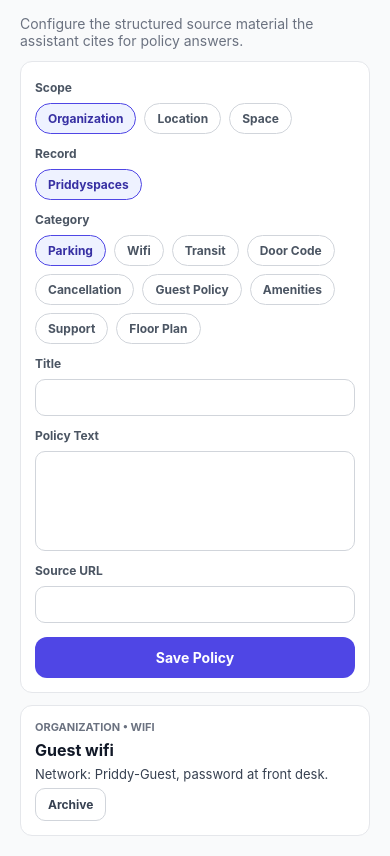
Scenario: OwnerAssistantPoliciesScreen › archives an active policy
(page scrolled)
Click the button with aria-label "Archive policy_1" at (71, 804), box [35,788,106,821]
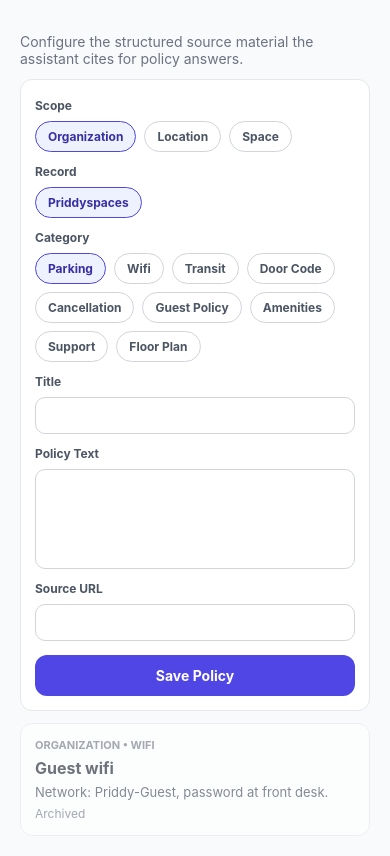
Expected: the text "Archived" is shown, [35,806,85,821]
